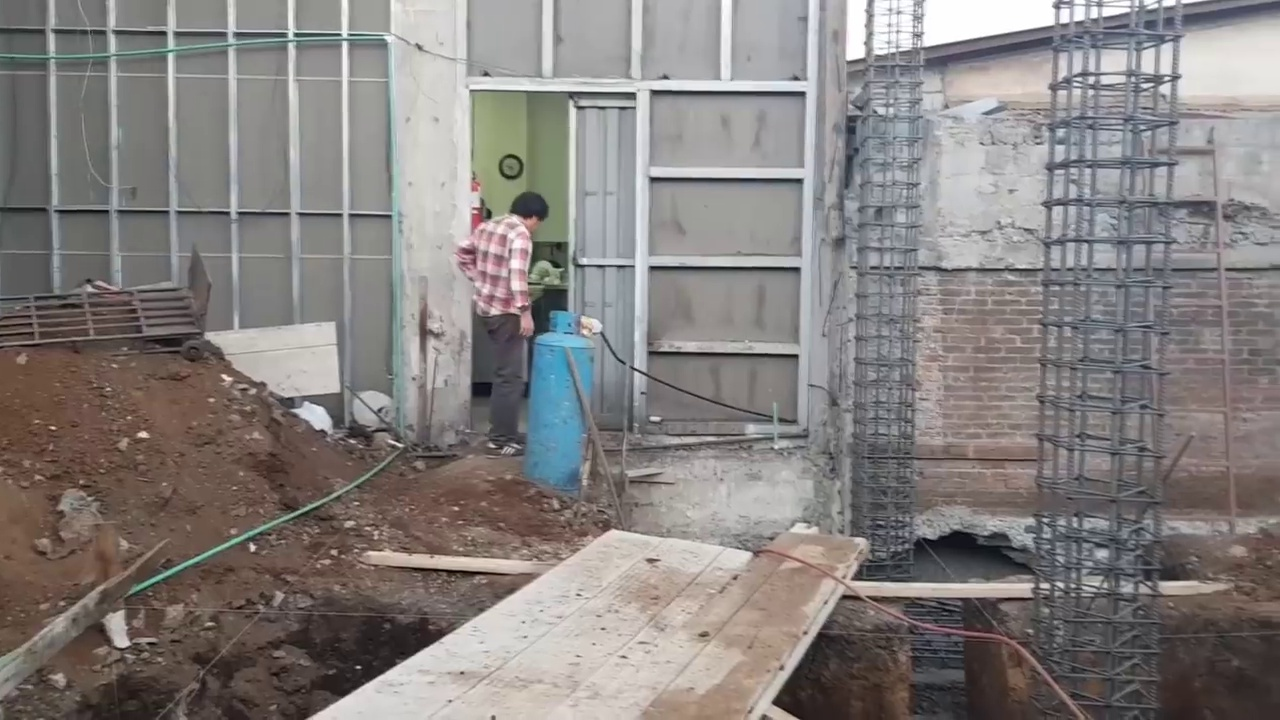helmet-off: (504, 190, 553, 238)
person: (454, 184, 554, 460)
